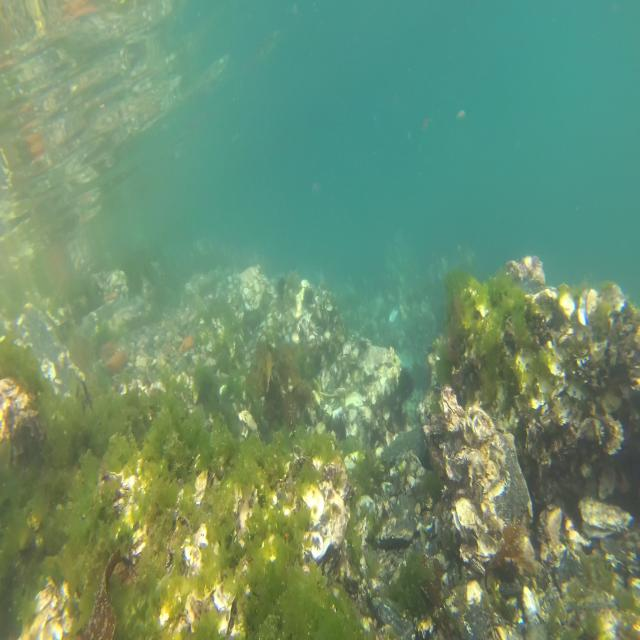echinus: (330, 413, 348, 451), (398, 369, 414, 400), (275, 277, 288, 300), (304, 285, 315, 306)
